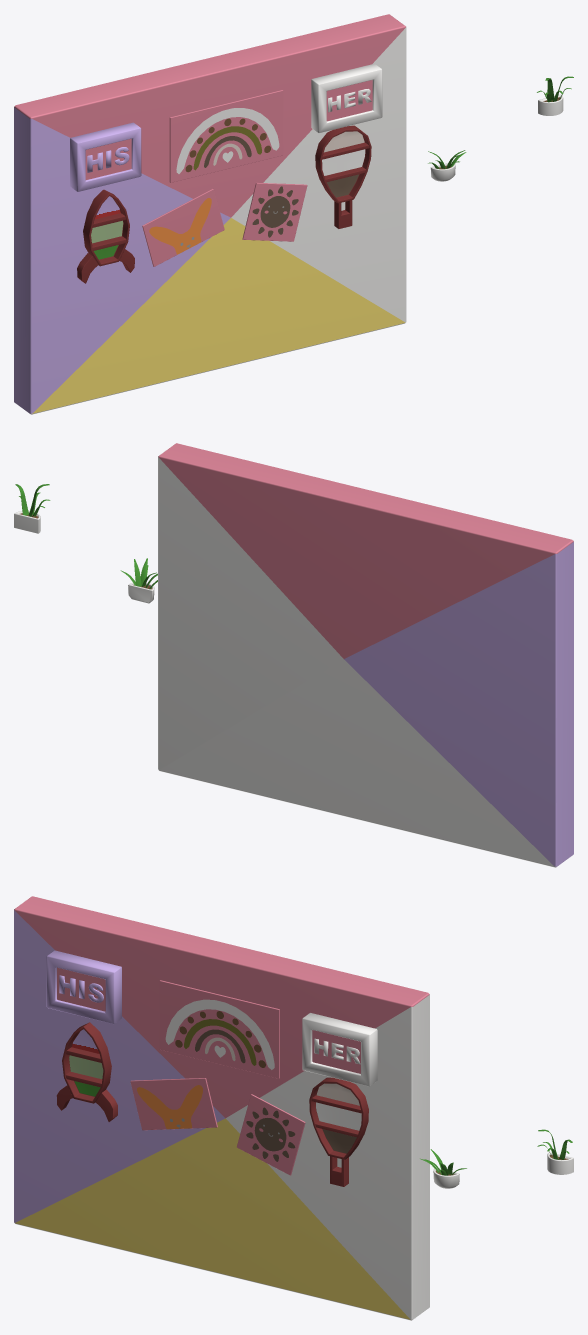
Rendered from Living_Area_Props .fbx.
The picture shows the model from 3 angles, top to bottom: view 1: azimuth 30°, elevation 25°; view 2: azimuth 150°, elevation 25°; view 3: azimuth 330°, elevation 25°; orthographic projection. The views are drawn at different scales.
Visible parts, largest first — view 1: Wall_1, Childrens_Painting_2, Female_Sign_1, Male_Sign_1, Shelf_1, Childrens_Painting_1, Shelf_2, Childrens_Painting_3, Plant_1, Plant_2; view 2: Wall_1, Plant_1, Plant_2; view 3: Wall_1, Childrens_Painting_2, Male_Sign_1, Female_Sign_1, Shelf_1, Childrens_Painting_1, Shelf_2, Childrens_Painting_3, Plant_1, Plant_2.
Part boxes in pixels (x1=…): Wall_1: x1=14, y1=14, x2=406, y2=414; Childrens_Painting_2: x1=169, y1=90, x2=283, y2=182; Female_Sign_1: x1=311, y1=63, x2=382, y2=133; Male_Sign_1: x1=70, y1=122, x2=141, y2=191; Shelf_1: x1=315, y1=125, x2=371, y2=228; Childrens_Painting_1: x1=142, y1=189, x2=224, y2=266; Shelf_2: x1=77, y1=189, x2=134, y2=283; Childrens_Painting_3: x1=242, y1=182, x2=307, y2=241; Plant_1: x1=537, y1=76, x2=573, y2=115; Plant_2: x1=428, y1=150, x2=466, y2=181; Wall_1: x1=158, y1=443, x2=573, y2=867; Plant_1: x1=14, y1=484, x2=50, y2=533; Plant_2: x1=120, y1=558, x2=157, y2=603; Wall_1: x1=14, y1=896, x2=429, y2=1320; Childrens_Painting_2: x1=159, y1=980, x2=279, y2=1078; Male_Sign_1: x1=46, y1=950, x2=121, y2=1023; Female_Sign_1: x1=302, y1=1013, x2=377, y2=1086; Shelf_1: x1=309, y1=1077, x2=368, y2=1186; Childrens_Painting_1: x1=130, y1=1078, x2=217, y2=1130; Shelf_2: x1=56, y1=1022, x2=117, y2=1121; Childrens_Painting_3: x1=237, y1=1094, x2=305, y2=1175; Plant_1: x1=537, y1=1129, x2=573, y2=1174; Plant_2: x1=420, y1=1149, x2=466, y2=1188.
Size of the model in its own units: 709 by 377 by 71.72.
